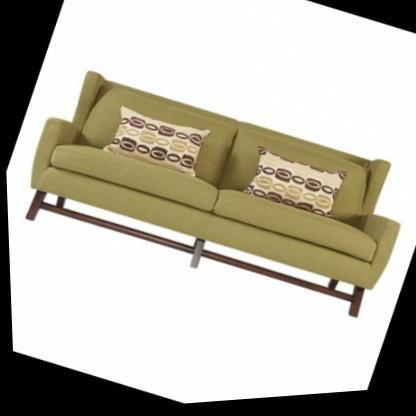Sofa: (6, 42, 416, 348)
